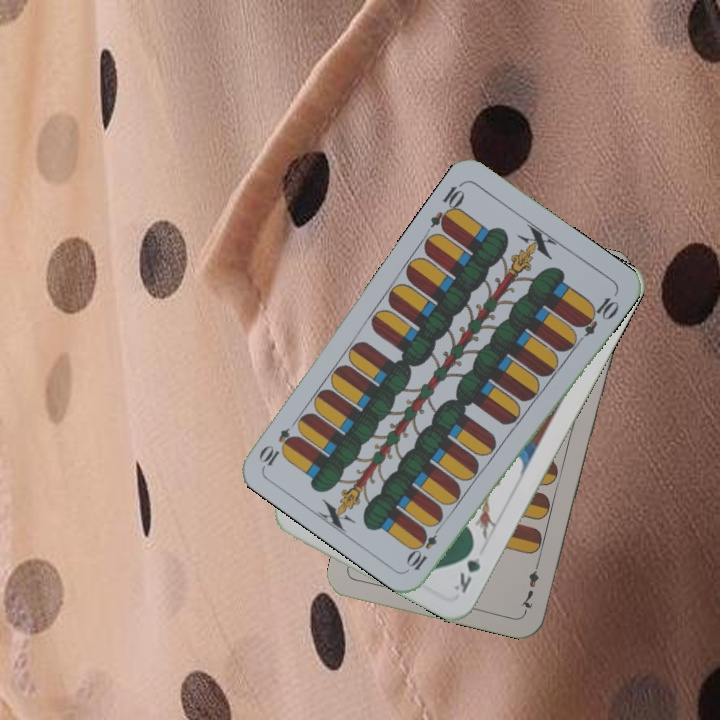E10: (426, 178, 468, 234), (404, 519, 445, 573)
E7: (517, 556, 543, 614)
GK: (450, 539, 483, 595)
